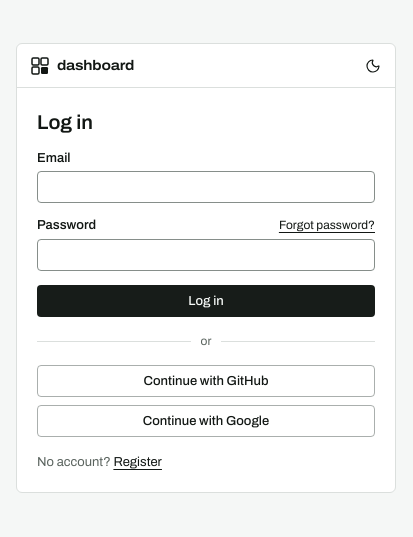
Scenario: LoginPage › shows wrong credentials as an alert linked to both fields
The image size is (413, 537).
Type "ada@example.com" into the field labelled "Email" at (206, 187), box [37, 171, 375, 203]
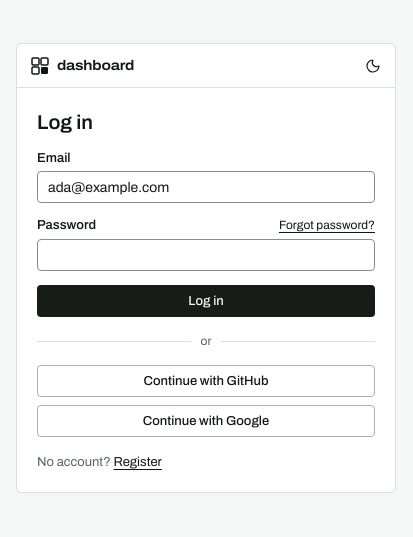
Type "wrong-pw-1!" into the password field labelled "Password" at (206, 255), box [37, 239, 375, 271]
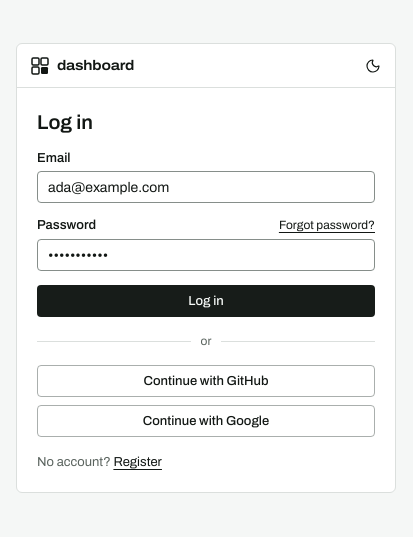
Click the button "Log in" at (206, 301), box [37, 285, 375, 317]
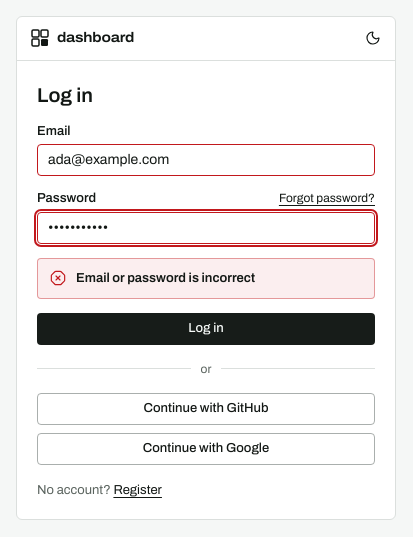
Now the message reads "Email or password is incorrect", box [76, 271, 255, 285]
